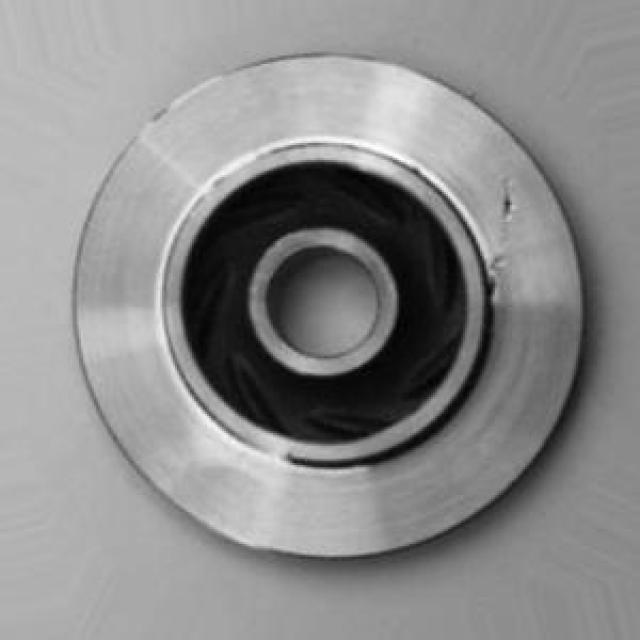Defect: (494, 183, 523, 224)
